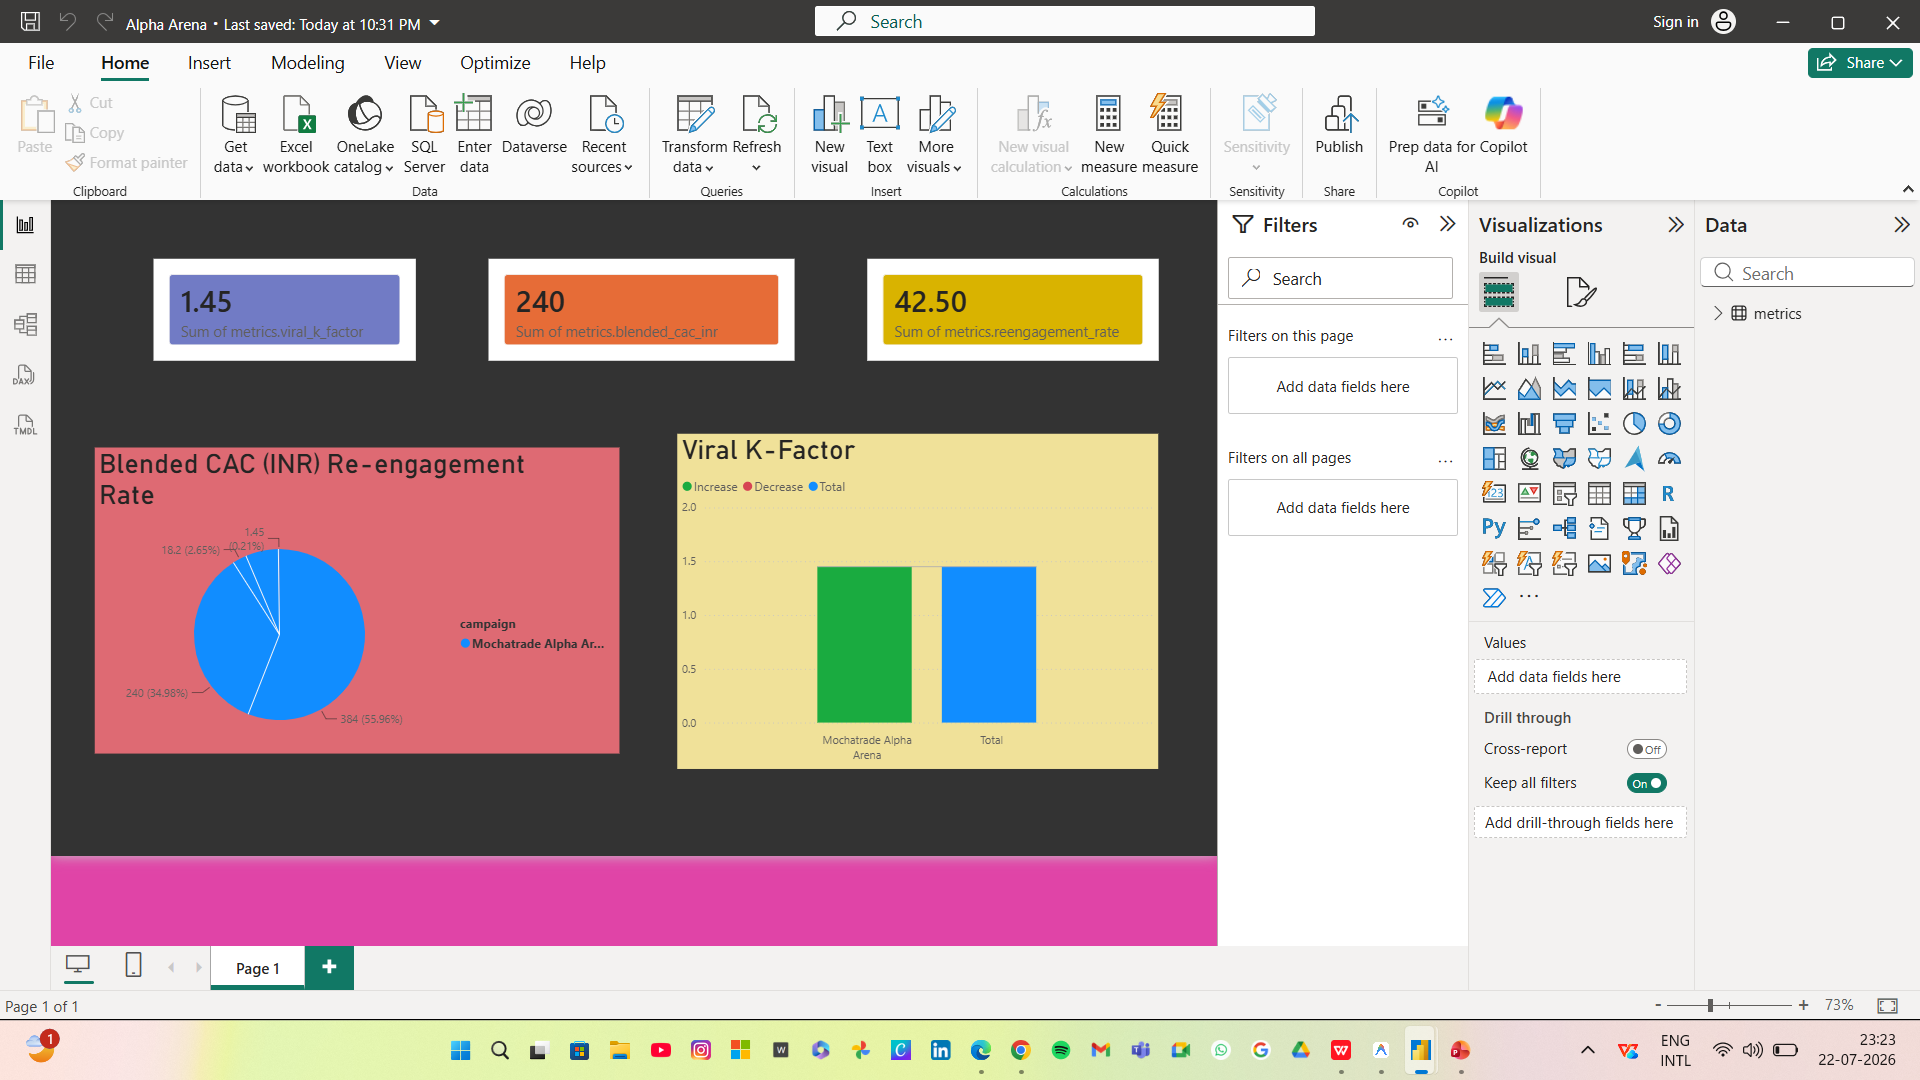

This screenshot's page, from the dashboard's own definition file:
{"tool":"powerbi","page":{"name":"Page 1","canvas":[1280,720],"ordinal":0},"visuals":[{"type":"cardVisual","fields":{"Data":["Sum(metrics.metrics.viral_k_factor)"]},"box":[112,64,288,112],"z":0},{"type":"cardVisual","fields":{"Data":["Sum(metrics.metrics.reengagement_rate)"]},"box":[896,64,320,112],"z":1},{"type":"cardVisual","fields":{"Data":["Sum(metrics.metrics.blended_cac_inr)"]},"box":[480,64,336,112],"z":2},{"type":"waterfallChart","title":"Viral K-Factor","fields":{"Y":["Sum(metrics.metrics.viral_k_factor)"],"Category":["metrics.campaign"]},"box":[688,256,528,368],"z":4},{"type":"pieChart","title":"Blended CAC (INR)  Re-engagement Rate","fields":{"Y":["Sum(metrics.metrics.active_referral_refills)","Sum(metrics.metrics.blended_cac_inr)","Sum(metrics.metrics.day1_deposit_conversion)","Sum(metrics.metrics.reengagement_rate)","Sum(metrics.metrics.viral_k_factor)"],"Category":["metrics.campaign","metrics.status"]},"box":[48,272,576,336],"z":5}]}

Visuals, with their boxes on the page's 1280x720 design canvas (x1, y1, x2, y2). These are canvas units, not pixel positions in the 1920x1080 screenshot, which may show the page scaled, cropped or inside an application window:
cardVisual - Sum(metrics.metrics.viral_k_factor): (112,64,400,176)
cardVisual - Sum(metrics.metrics.reengagement_rate): (896,64,1216,176)
cardVisual - Sum(metrics.metrics.blended_cac_inr): (480,64,816,176)
"Viral K-Factor" waterfallChart: (688,256,1216,624)
"Blended CAC (INR)  Re-engagement Rate" pieChart: (48,272,624,608)
